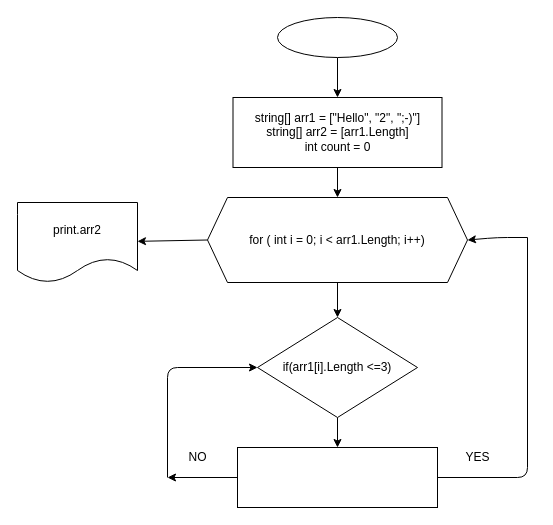
Some shapes in this 553 by 525 pixel diagram are drawn without their labels. Here are the shapes that lost their labels. From the top down, the box of each, then its label:
(276, 16, 398, 58): START
(236, 446, 438, 508): arr2[count] = arr1[i] count++
